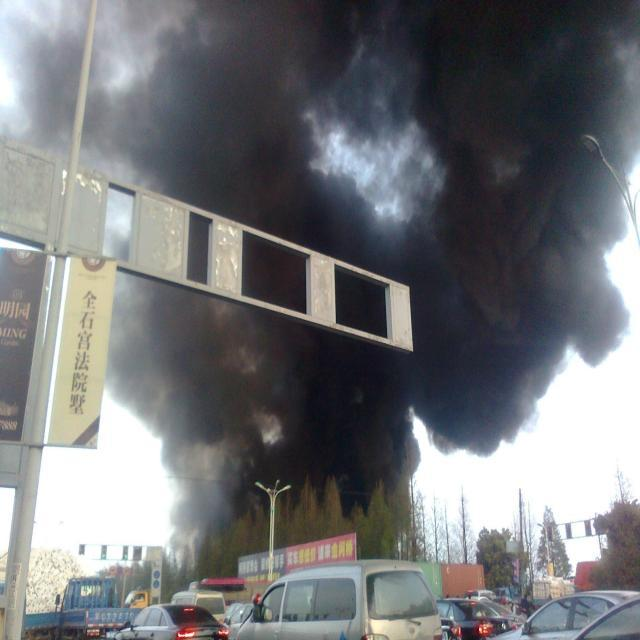Smoke: (11, 0, 640, 548)
